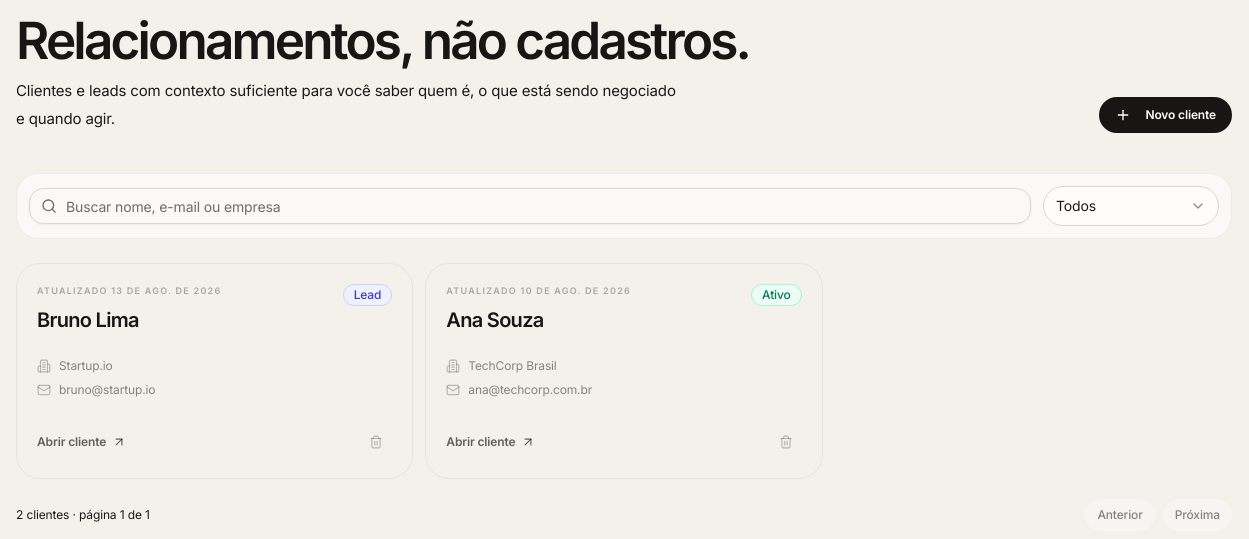
Test: ClientsPage (frontend) › lista clientes seed e permite buscar
Expected: the link "Ana Souza" is shown, [446,308,544,332]
Expected: the heading "Relacionamentos, não cadastros." is shown, [16,16,749,65]
In the field with placeholder "Buscar nome, e-mail ou empresa": coordinates (530, 206) [29,188,1031,224], type "Bruno"
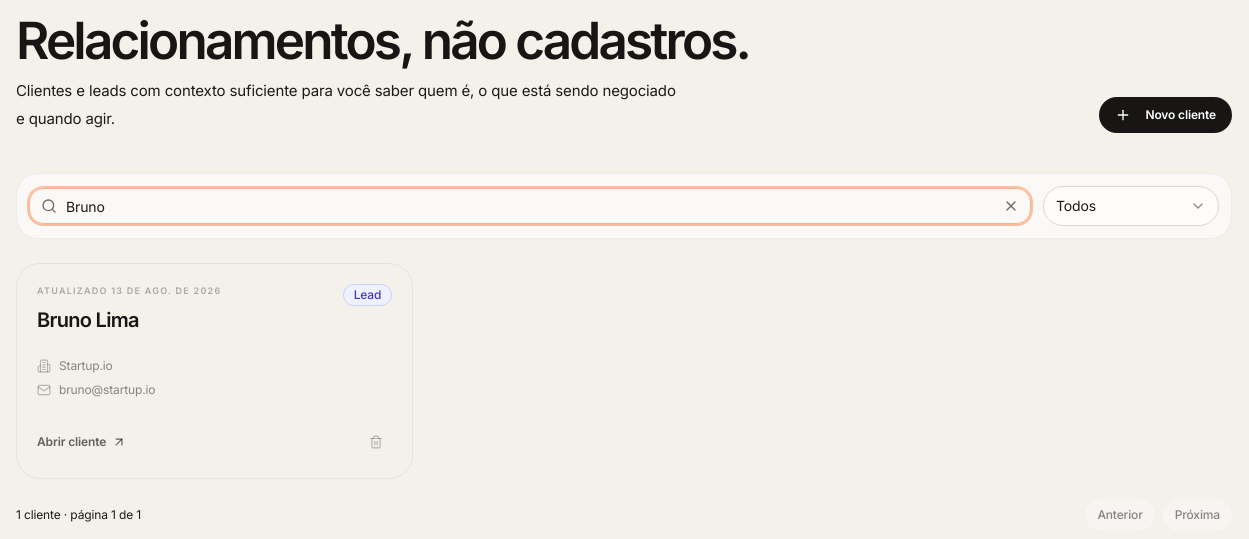
Expected: the link "Bruno Lima" is shown, [37,308,139,332]
Now the link "Ana Souza" is gone
